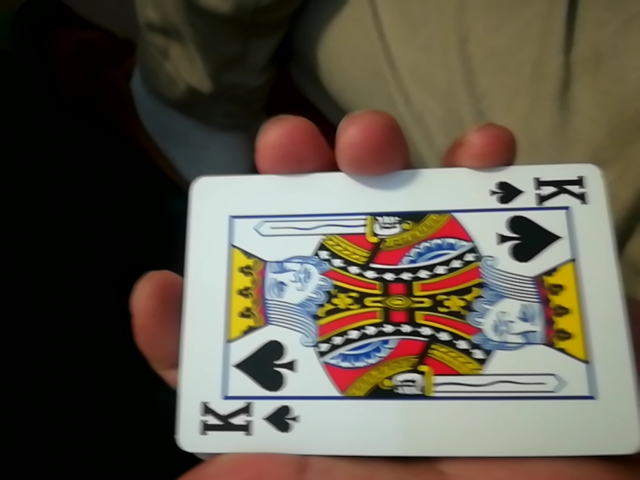ht k: (173, 161, 635, 458)
